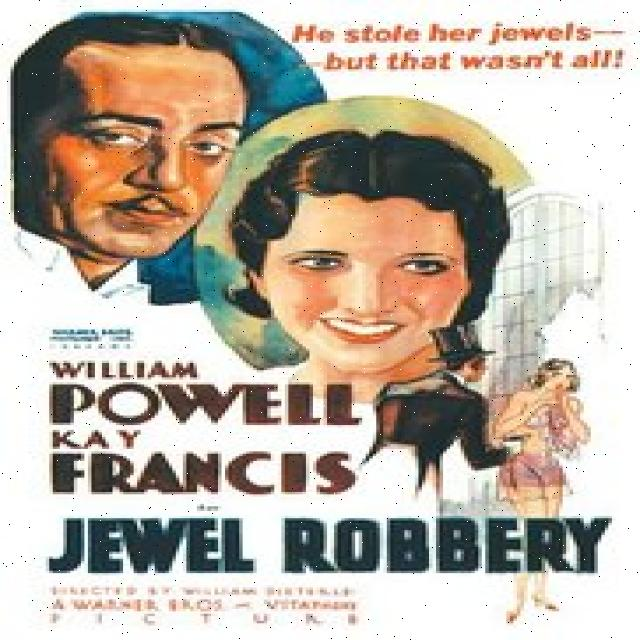movie-judul: (42, 505, 619, 578)
picture: (8, 15, 606, 388)
